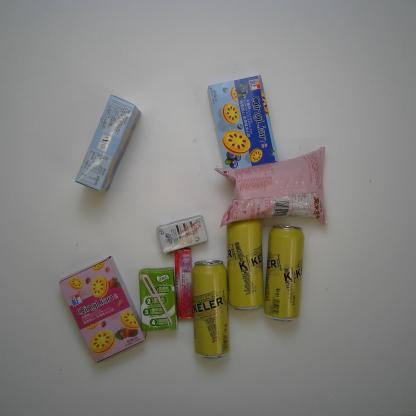Alcohol: (262, 223, 306, 324), (190, 259, 232, 362), (226, 214, 266, 313)
Candy: (172, 247, 196, 322)
Dessert: (56, 255, 148, 366), (205, 73, 280, 173), (72, 93, 142, 196)
Milk: (137, 268, 180, 334), (156, 213, 210, 256)
Puffed Food: (212, 144, 330, 229)
